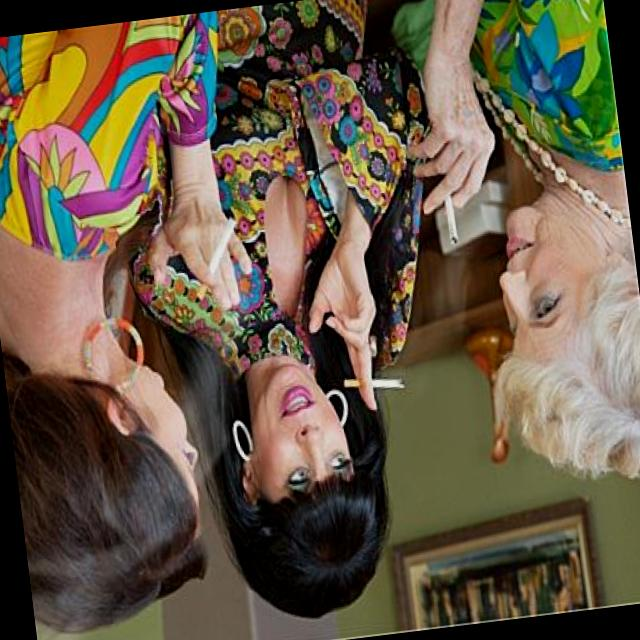smoke: (338, 364, 408, 400)
